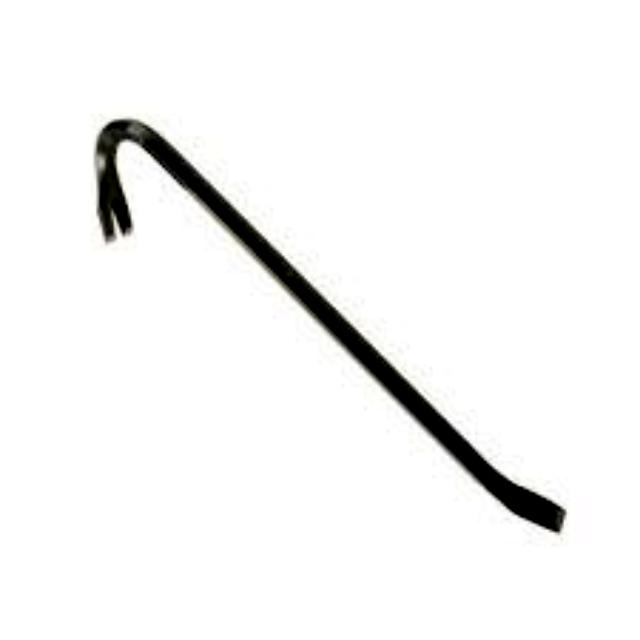crow bar: (82, 106, 570, 542)
